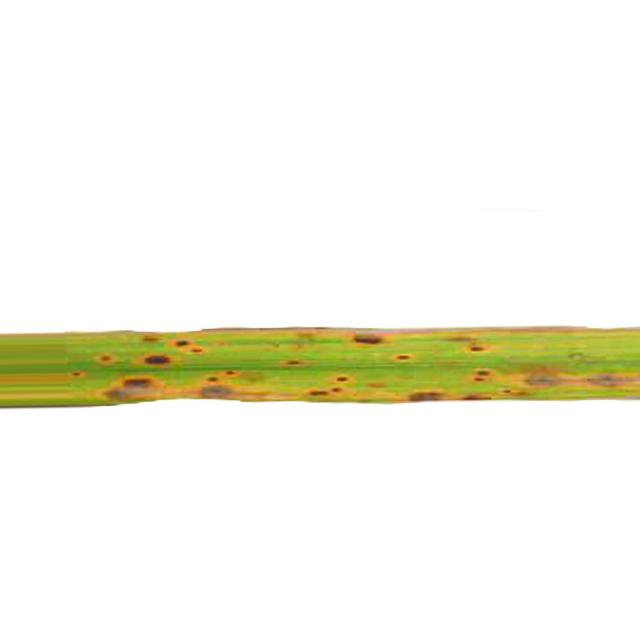Brown_Spot: (521, 369, 559, 389), (352, 330, 394, 348), (588, 374, 626, 393), (279, 351, 318, 369), (124, 376, 162, 389), (202, 386, 232, 399), (102, 386, 126, 402), (95, 351, 119, 366), (141, 354, 171, 366), (305, 388, 332, 401), (409, 391, 444, 401), (201, 371, 220, 387), (472, 368, 491, 380), (142, 332, 164, 342), (185, 345, 208, 354), (69, 370, 88, 380), (221, 370, 241, 379), (169, 339, 191, 347), (331, 375, 356, 382), (462, 394, 491, 400), (366, 381, 386, 388), (470, 344, 486, 352), (394, 354, 412, 361), (500, 388, 512, 398), (331, 388, 342, 392)
